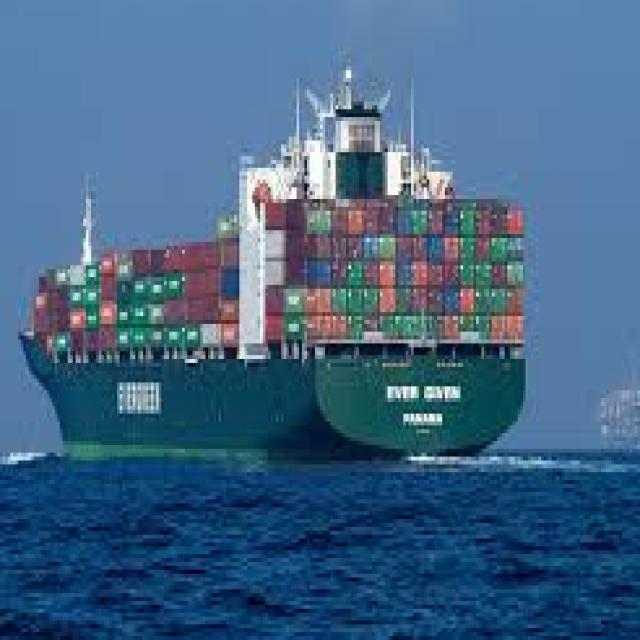cargoship: (24, 77, 536, 457)
